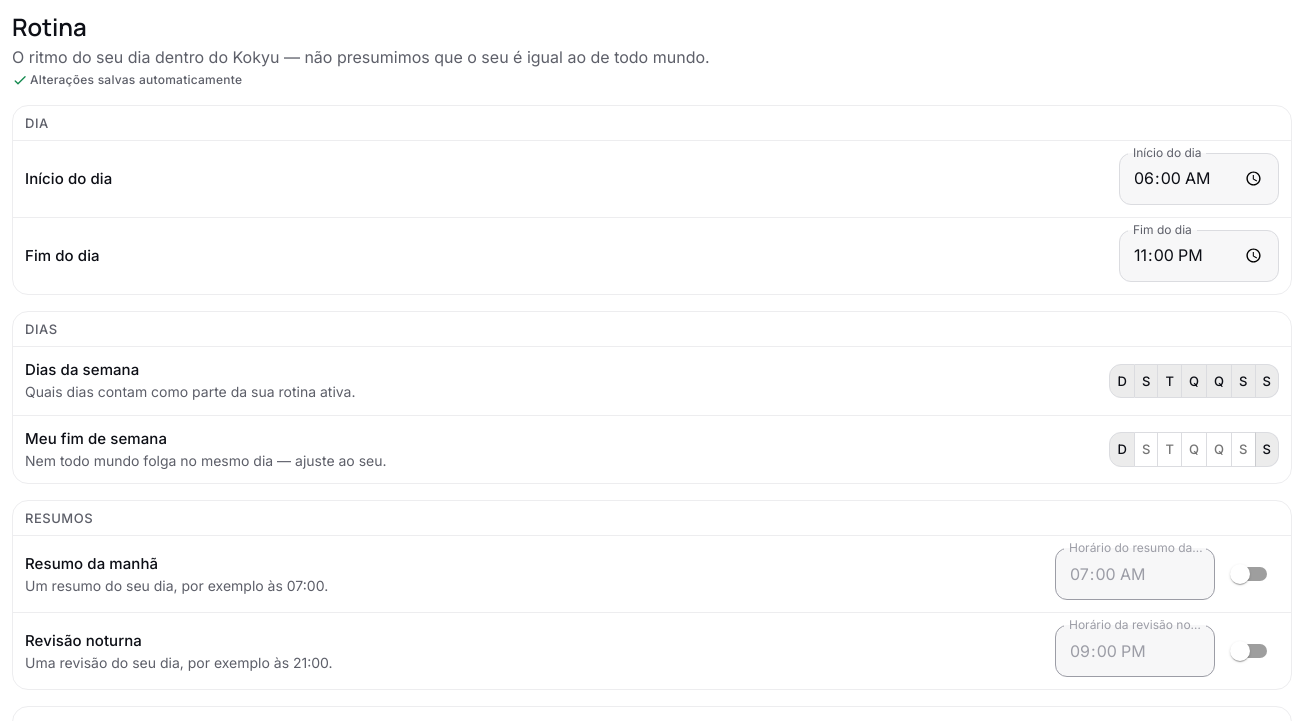
RoutineSettings › "Resumo da manhã" starts off with its time field disabled, enabling it when turned on
The width and height of the screenshot is (1292, 721).
Expected: the time field labelled "Horário do resumo da manhã" is disabled, top-left (1055, 549), bottom-right (1215, 600)
Click the switch named "Resumo da manhã".
click(1240, 574)  # box top-left (1230, 564), bottom-right (1250, 584)
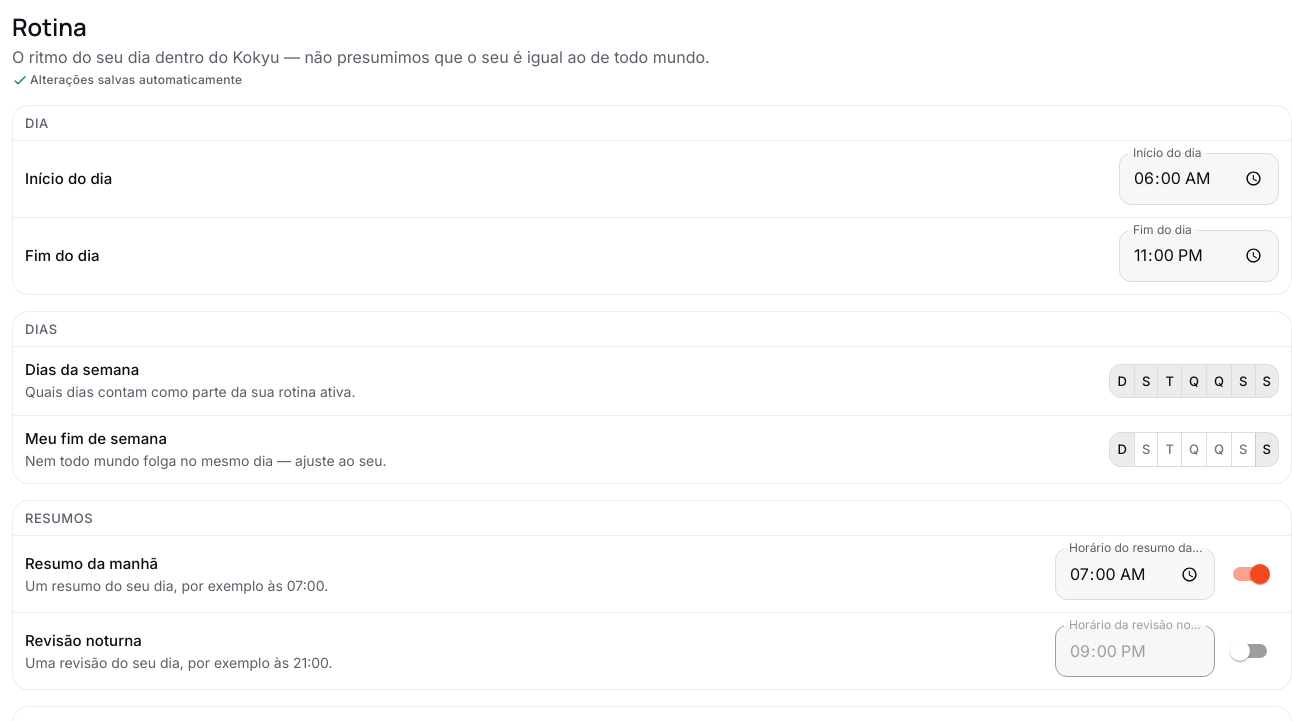
Expected: the switch named "Resumo da manhã" is checked, top-left (1250, 564), bottom-right (1270, 584)
Expected: the time field labelled "Horário do resumo da manhã" is enabled, top-left (1055, 549), bottom-right (1215, 600)
